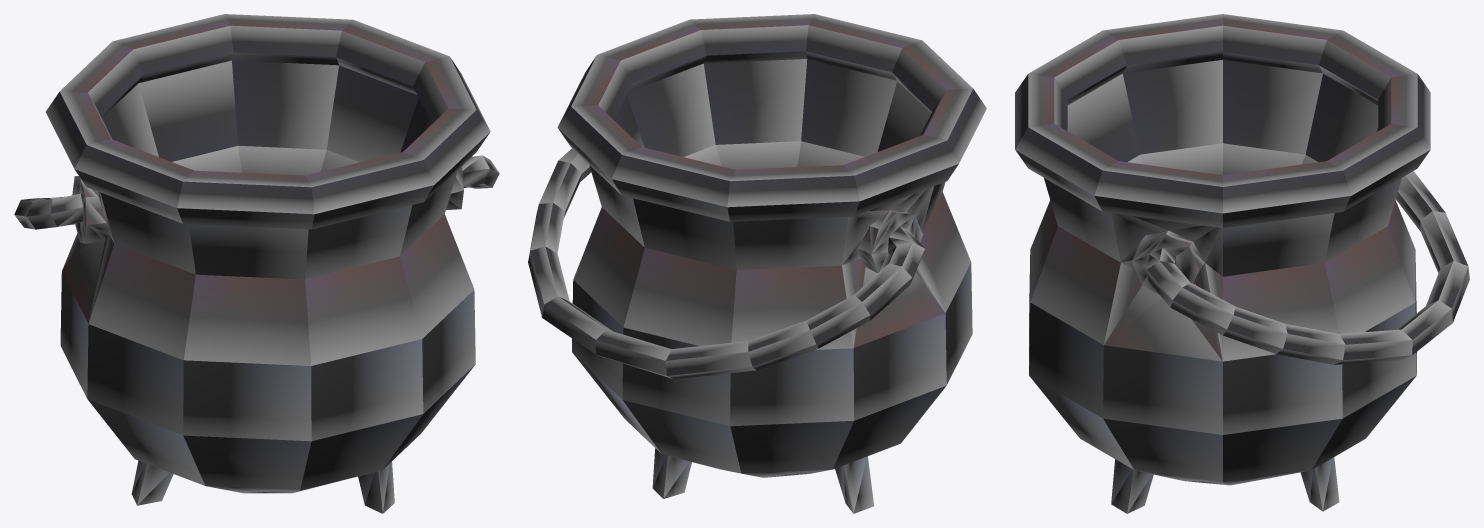
File: cauldron01.fbx
3 renders of one model, left to right at view 1: azimuth 30°, elevation 25°; view 2: azimuth 150°, elevation 25°; view 3: azimuth 270°, elevation 25°, orthographic. The views are drawn at different scales.
Visible parts, largest first — view 1: cauldron01; view 2: cauldron01; view 3: cauldron01.
Part boxes in pixels (x1,y1,x2,y2): cauldron01: [14, 14, 499, 513]; cauldron01: [528, 14, 986, 513]; cauldron01: [1015, 14, 1469, 513].
Size of the model in its own units: 166 by 147 by 161.
